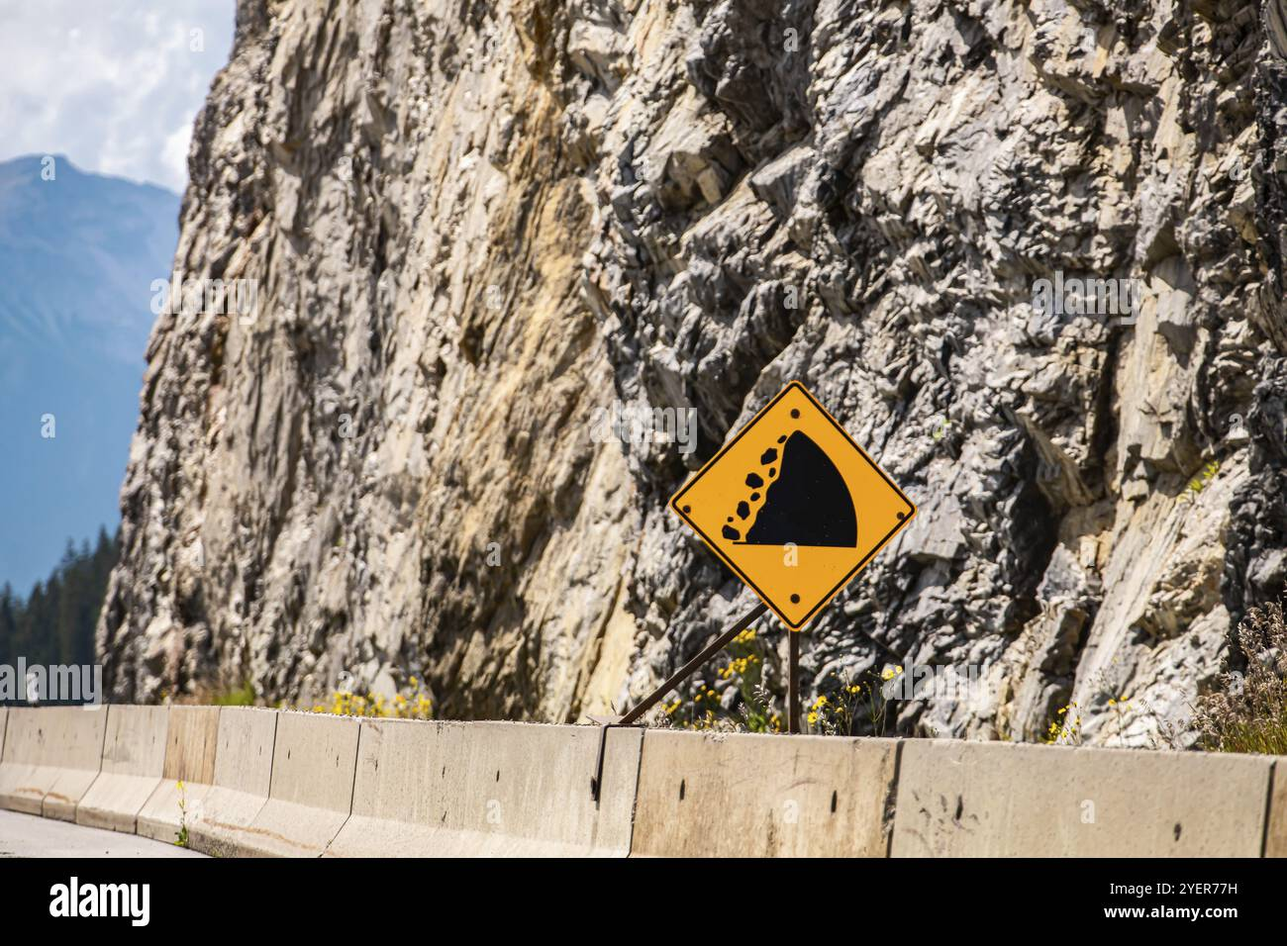FallenSign: (655, 378, 927, 634)
